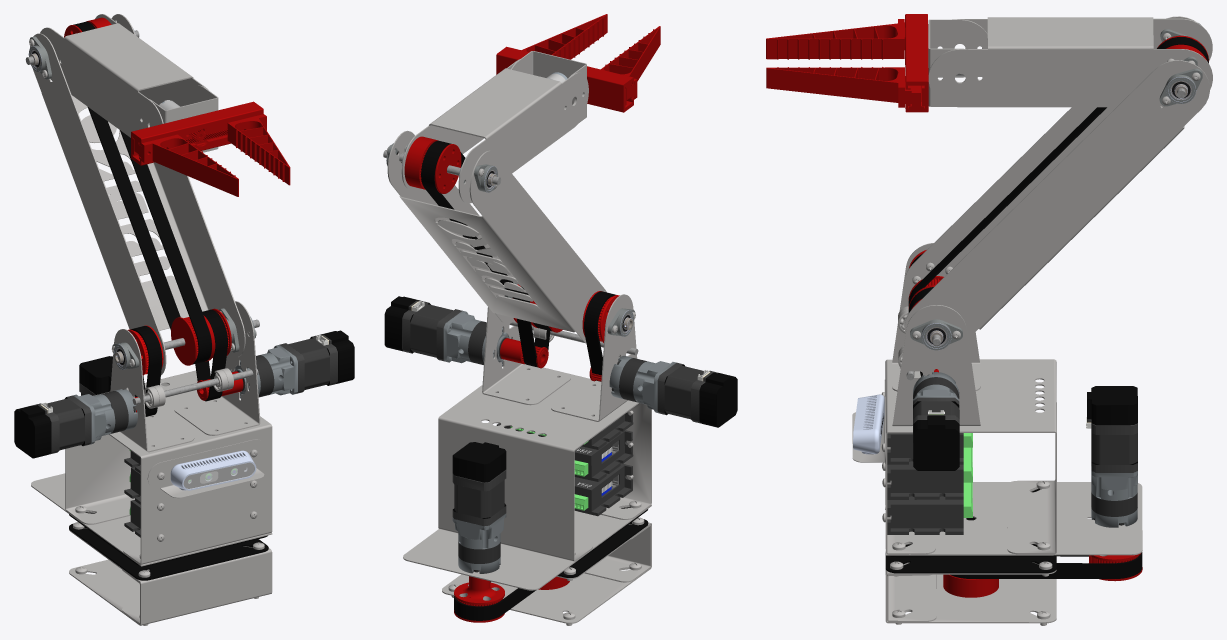
The model's file is manipulador.glb.
3 views of the same model, side by side, from view 1: azimuth 30°, elevation 25°; view 2: azimuth 150°, elevation 25°; view 3: azimuth 270°, elevation 25° (orthographic). The views are drawn at different scales.
Parts seen in each view (by area): view 1: Sólido1 (×22), Sólido2 (×3), Sólido3 (×2), Sólido7, Sólido6, Sólido5; view 2: Sólido1 (×25), Sólido2 (×3), Sólido3 (×3), Sólido12 (×3); view 3: Sólido1 (×21), Sólido12 (×3), Sólido2 (×2), Sólido3 (×2), Sólido7.
Part boxes in pixels (x1,y1,x2,y2): Sólido1 (×22): [28, 14, 297, 625]; Sólido2 (×3): [14, 330, 354, 458]; Sólido3 (×2): [47, 338, 329, 450]; Sólido7: [170, 450, 256, 490]; Sólido6: [183, 462, 254, 488]; Sólido5: [184, 463, 254, 488]; Sólido1 (×25): [387, 14, 676, 623]; Sólido2 (×3): [384, 296, 737, 491]; Sólido3 (×3): [410, 304, 703, 518]; Sólido12 (×3): [496, 408, 633, 516]; Sólido1 (×21): [766, 14, 1212, 623]; Sólido12 (×3): [887, 433, 963, 534]; Sólido2 (×2): [913, 386, 1137, 470]; Sólido3 (×2): [913, 401, 1137, 464]; Sólido7: [853, 394, 884, 454].
Bounding box in the file's own units: 0.3795 × 0.5639 × 0.4044.
Materials: 42 (1 with a texture image).
